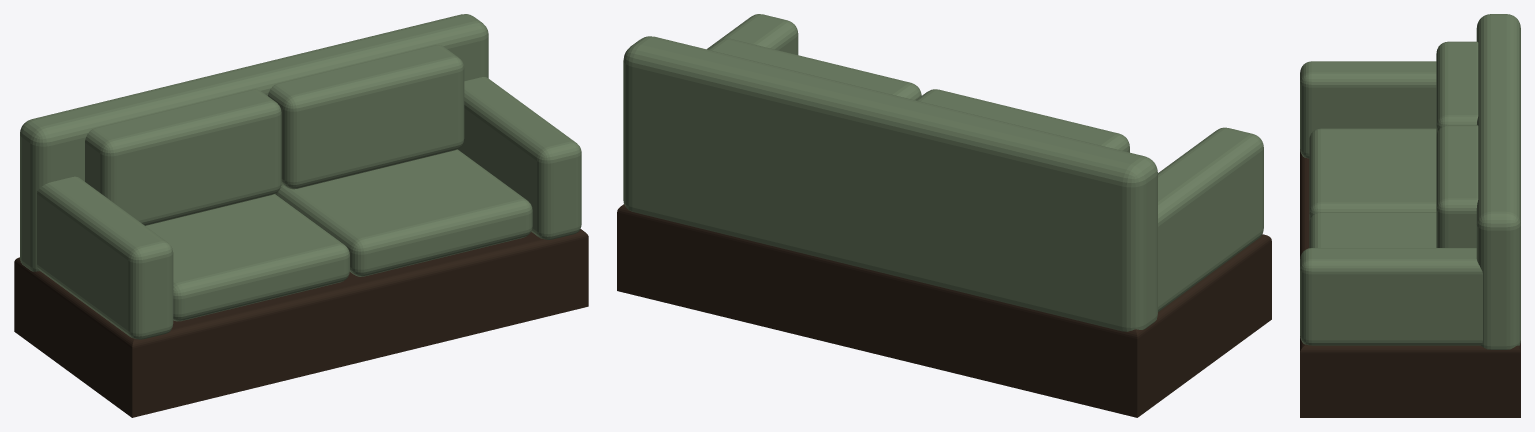
The model's file is sofa.glb.
The picture shows the model from 3 angles, left to right: view 1: azimuth 30°, elevation 25°; view 2: azimuth 150°, elevation 25°; view 3: azimuth 270°, elevation 25°; orthographic projection. The views are drawn at different scales.
Parts seen in each view (by area): view 1: ClosedFloorBase.010, RightBackCushion.010, LeftBackCushion.010, RightSeatCushion.010, UpholsteredBack.010, LeftSeatCushion.010, LeftArm.010, RightArm.010; view 2: UpholsteredBack.010, ClosedFloorBase.010, LeftArm.010, LeftBackCushion.010, RightBackCushion.010, RightArm.010; view 3: RightArm.010, ClosedFloorBase.010, UpholsteredBack.010, LeftSeatCushion.010, LeftArm.010, RightBackCushion.010, RightSeatCushion.010, LeftBackCushion.010.
Boxes of the visible parts, <box> form: ClosedFloorBase.010: <box>14,229,588,417</box>; RightBackCushion.010: <box>268,45,464,189</box>; LeftBackCushion.010: <box>85,89,281,225</box>; RightSeatCushion.010: <box>275,149,532,276</box>; UpholsteredBack.010: <box>20,14,488,271</box>; LeftSeatCushion.010: <box>146,194,349,321</box>; LeftArm.010: <box>37,176,173,339</box>; RightArm.010: <box>458,77,581,239</box>; UpholsteredBack.010: <box>623,36,1157,331</box>; ClosedFloorBase.010: <box>617,204,1271,417</box>; LeftArm.010: <box>1158,127,1263,311</box>; LeftBackCushion.010: <box>916,89,1129,152</box>; RightBackCushion.010: <box>708,38,921,100</box>; RightArm.010: <box>707,14,798,54</box>; RightArm.010: <box>1300,248,1482,345</box>; ClosedFloorBase.010: <box>1300,149,1520,417</box>; UpholsteredBack.010: <box>1476,14,1520,349</box>; LeftSeatCushion.010: <box>1309,128,1436,220</box>; LeftArm.010: <box>1300,61,1436,158</box>; RightBackCushion.010: <box>1436,125,1478,247</box>; RightSeatCushion.010: <box>1309,212,1436,248</box>; LeftBackCushion.010: <box>1436,41,1478,136</box>.
Size of the model in its own units: 1.9 by 0.85 by 0.85.
